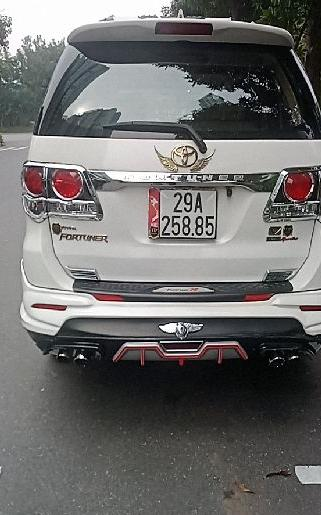Plate-iWeP: (161, 186, 217, 240)
